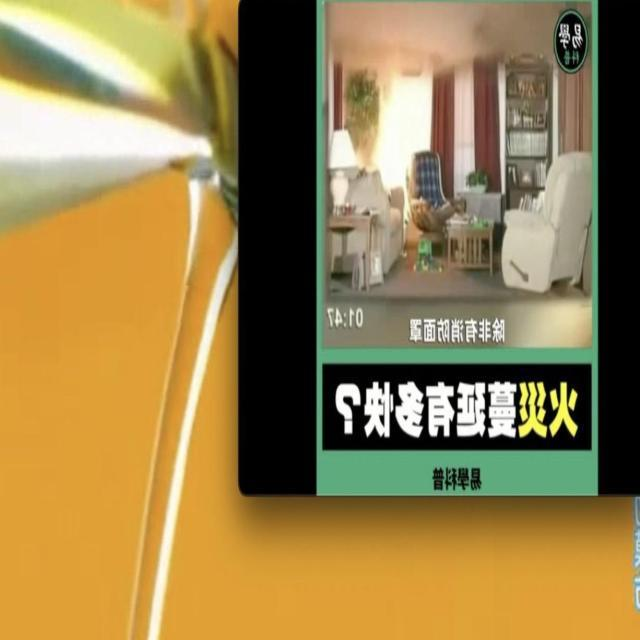smoke: (371, 55, 436, 238)
